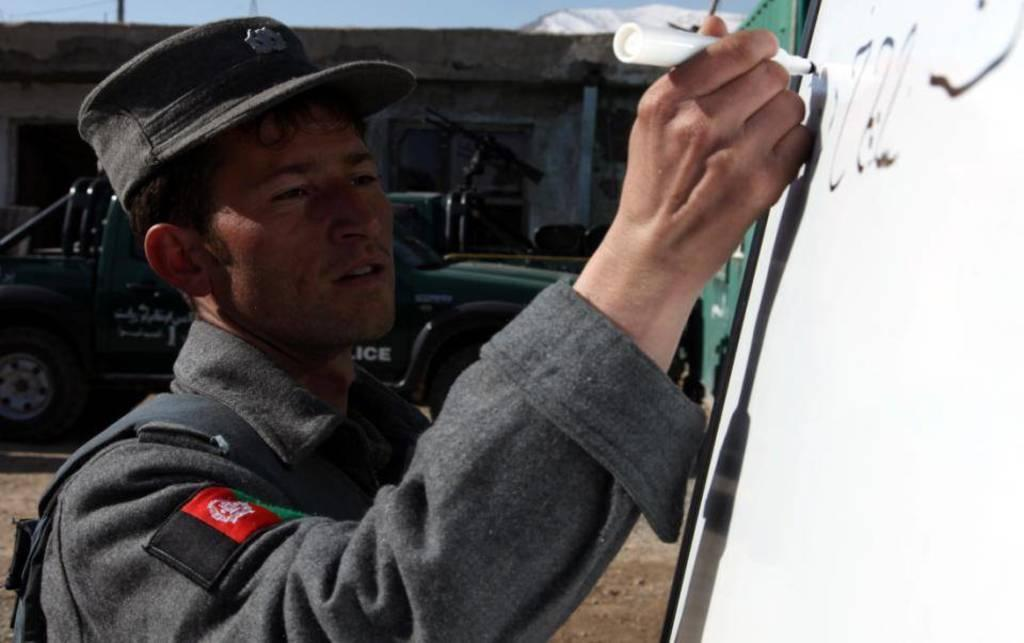Hat: (78, 13, 416, 209)
